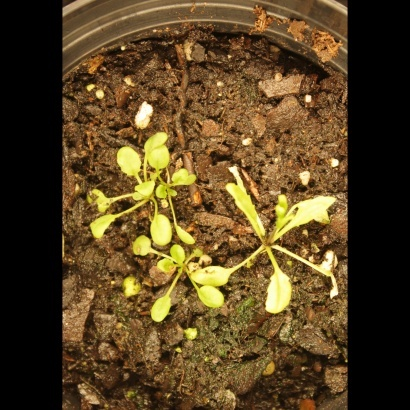leaf: (225, 180, 266, 236), (286, 195, 343, 233), (262, 265, 297, 320), (187, 259, 235, 289), (268, 188, 298, 229), (147, 287, 176, 329), (114, 142, 144, 180), (145, 212, 175, 249), (89, 212, 128, 239), (83, 183, 119, 211), (195, 283, 225, 315), (167, 164, 203, 187), (142, 127, 172, 153), (146, 144, 175, 170), (172, 222, 202, 247), (130, 233, 155, 262), (134, 178, 157, 201), (156, 183, 179, 206)
